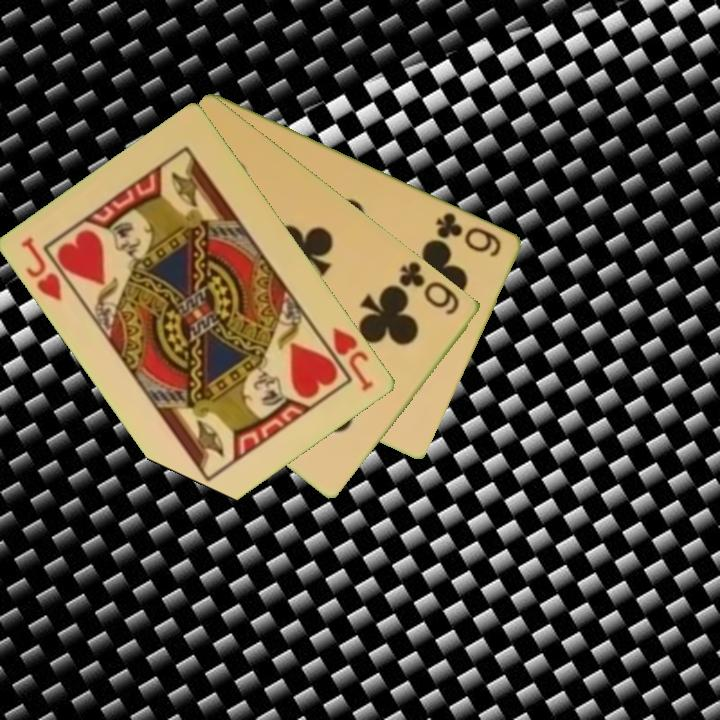6c: (396, 257, 463, 318), (432, 208, 505, 260)
Jh: (329, 323, 378, 395), (18, 233, 66, 304)
